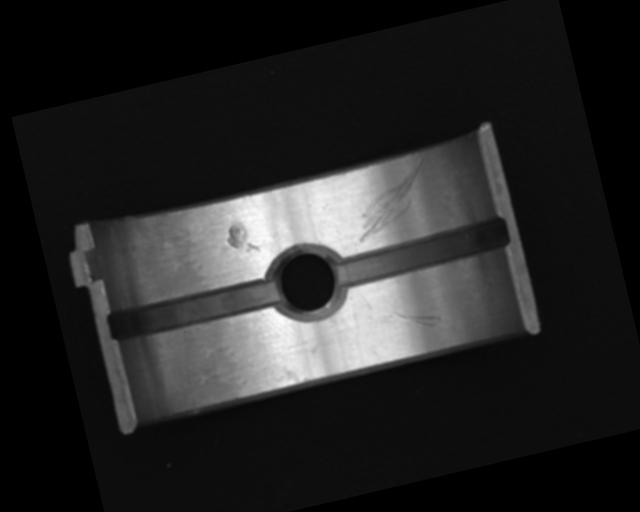bruise: (224, 220, 260, 258)
gap: (331, 216, 511, 289), (107, 275, 282, 344)
hole: (265, 241, 348, 326)
nick: (343, 157, 437, 242), (384, 299, 442, 337)
